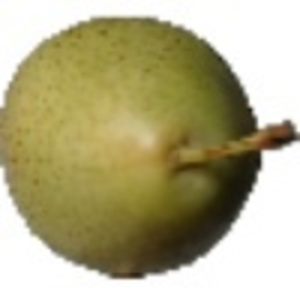pera: (1, 1, 300, 282)
